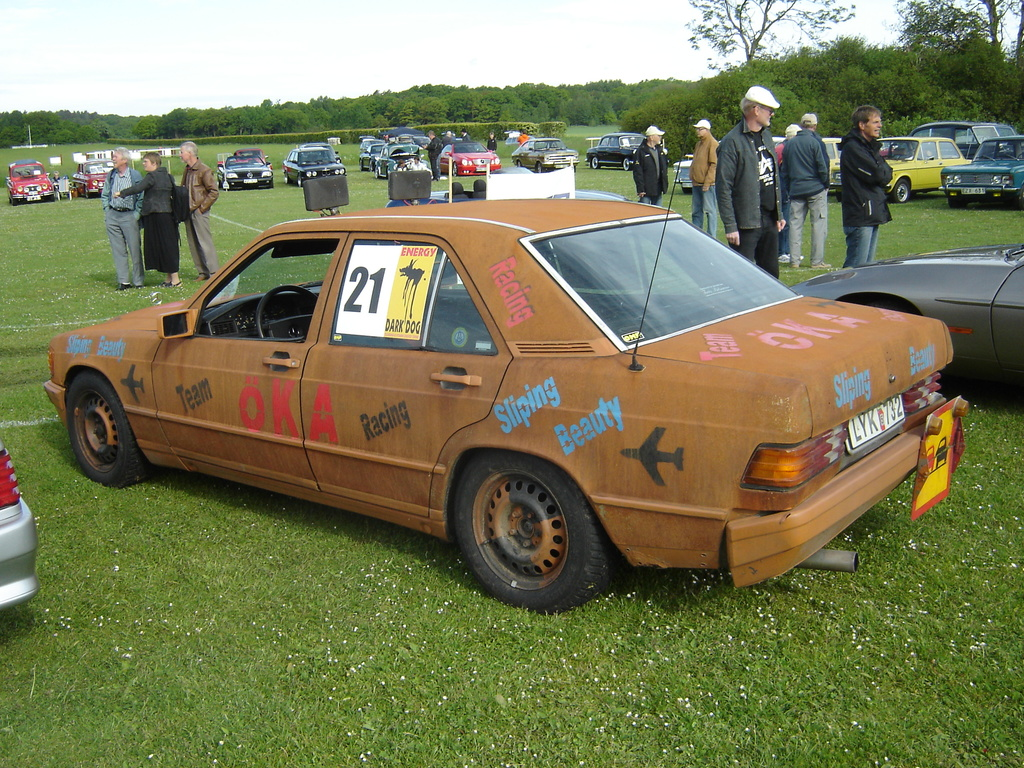Car: (39, 196, 970, 613), (789, 243, 1023, 397), (826, 136, 961, 200), (0, 446, 40, 611), (939, 135, 1023, 207), (360, 135, 498, 176), (673, 148, 776, 194), (911, 123, 1014, 159), (586, 129, 666, 167), (282, 145, 345, 186), (510, 138, 576, 172), (218, 154, 275, 193), (7, 161, 53, 206), (70, 161, 115, 196), (295, 140, 338, 160), (235, 149, 267, 163)
